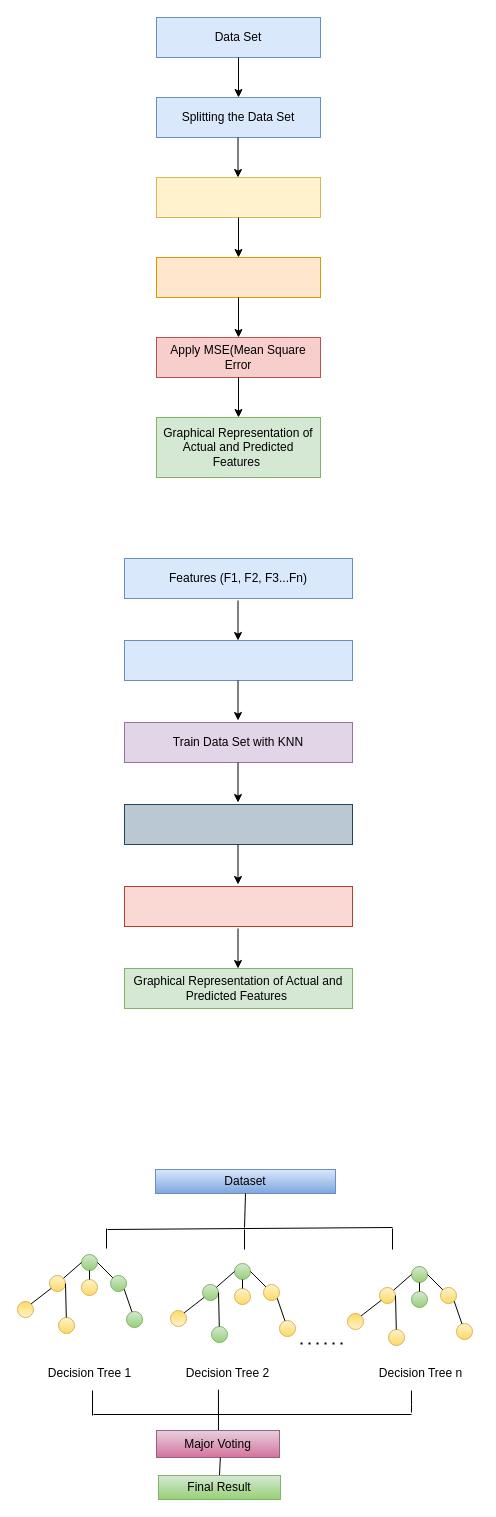
The diagram is 496 pixels wide and 1517 high, and some of its shapes have lost their labels. The centre of each missing label's shape, as x and y in pixels:
"Apply ML Algorithms on selected Data" goes at (x=238, y=197).
"Apply MSE(Mean Square Error)" goes at (x=238, y=906).
"Predict Future Values" goes at (x=238, y=277).
"Predict Future Values of Features" goes at (x=238, y=824).
"Split Data Set for Training and Prediction" goes at (x=238, y=660).
